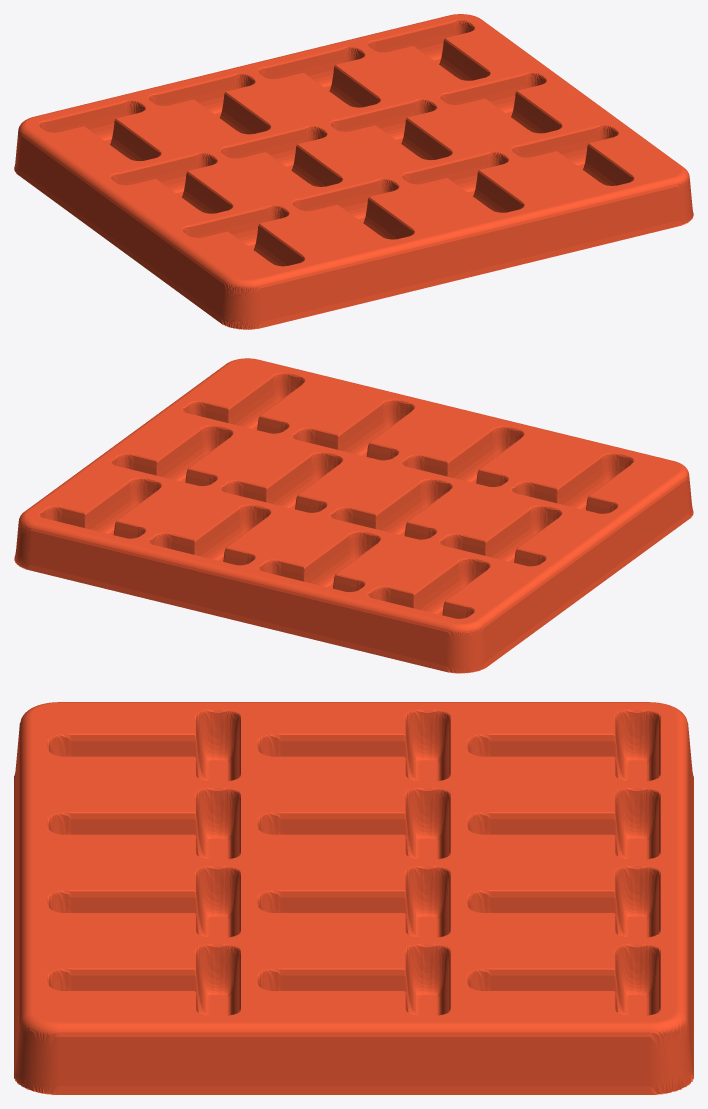
Rendered from mold.glb.
3 renders of one model, top to bottom at view 1: azimuth 30°, elevation 25°; view 2: azimuth 150°, elevation 25°; view 3: azimuth 270°, elevation 25°, orthographic. The views are drawn at different scales.
Visible parts, largest first — view 1: geometry_0; view 2: geometry_0; view 3: geometry_0.
Boxes of the visible parts, bbox=[...] form: geometry_0: bbox=[14, 14, 693, 329]; geometry_0: bbox=[14, 358, 693, 673]; geometry_0: bbox=[14, 702, 693, 1094].
Bounding box in the file's own units: 0.1597 × 0.0145 × 0.1374.
